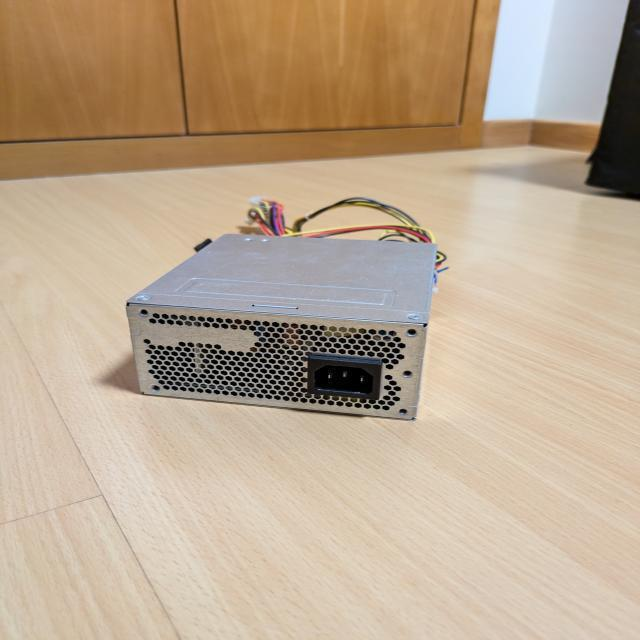PSU: (126, 232, 438, 422)
